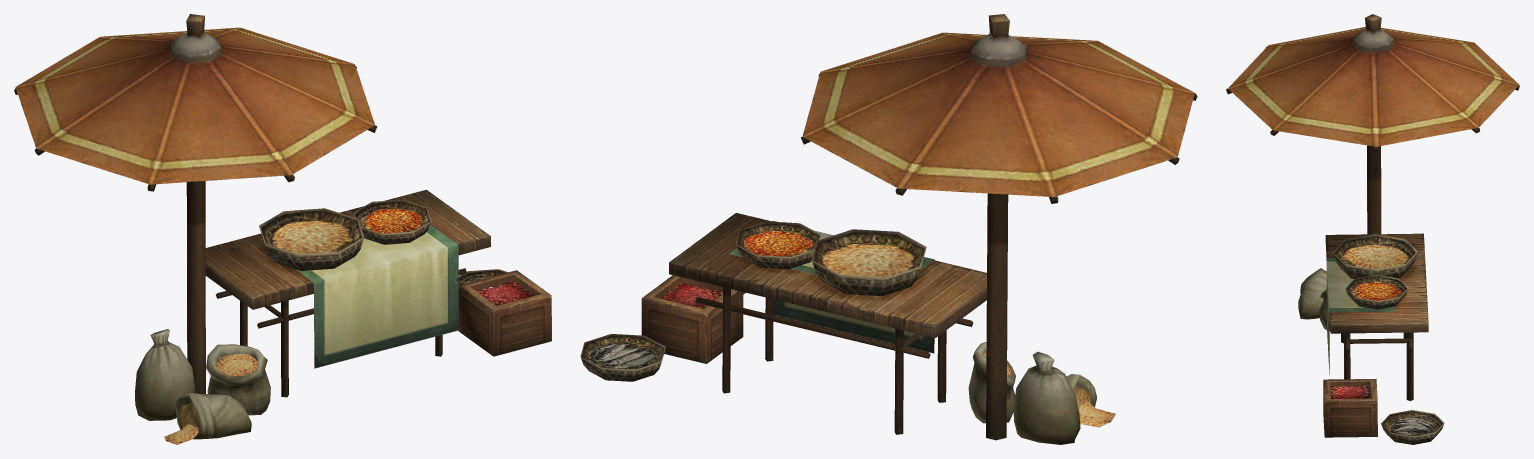
File: C5_Build_2.FBX
3 views of the same model, side by side, from view 1: azimuth 30°, elevation 25°; view 2: azimuth 150°, elevation 25°; view 3: azimuth 270°, elevation 25° (orthographic). The views are drawn at different scales.
Visible parts, largest first — view 1: C5_Build_2; view 2: C5_Build_2; view 3: C5_Build_2.
Part boxes in pixels (<box>): C5_Build_2: <box>14,14,551,444</box>; C5_Build_2: <box>580,14,1197,444</box>; C5_Build_2: <box>1226,14,1519,444</box>.
Size of the model in its own units: 343 by 243 by 217.
